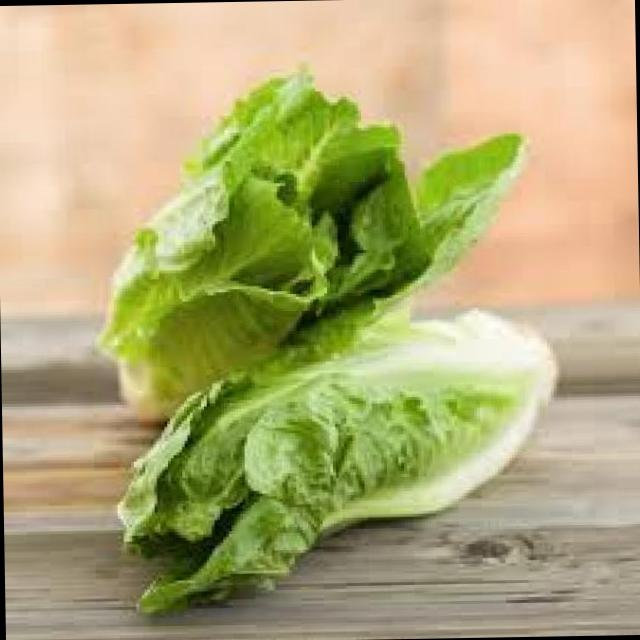Lettuce-Ready-to-Harvest: (103, 74, 522, 398), (119, 306, 555, 611)
